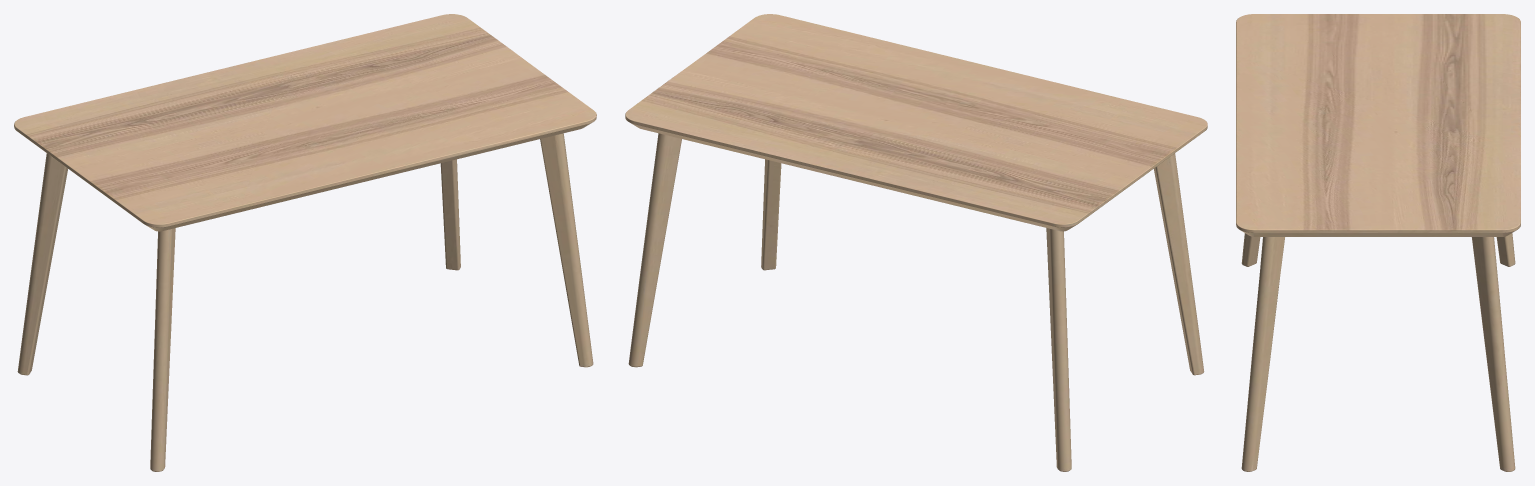
File: ikea-lisabo-mesa-chapa-fresno-demo.glb
The picture shows the model from 3 angles, left to right: view 1: azimuth 30°, elevation 25°; view 2: azimuth 150°, elevation 25°; view 3: azimuth 270°, elevation 25°; orthographic projection.
Visible parts, largest first — view 1: model; view 2: model; view 3: model.
Boxes of the visible parts, box(x1,y1,x2,y2) form: model: box(14, 14, 596, 471); model: box(625, 14, 1207, 471); model: box(1236, 14, 1520, 471).
Bounding box in the file's own units: 1.4 × 0.7402 × 0.7802.
Materials: 1 (1 with a texture image).
